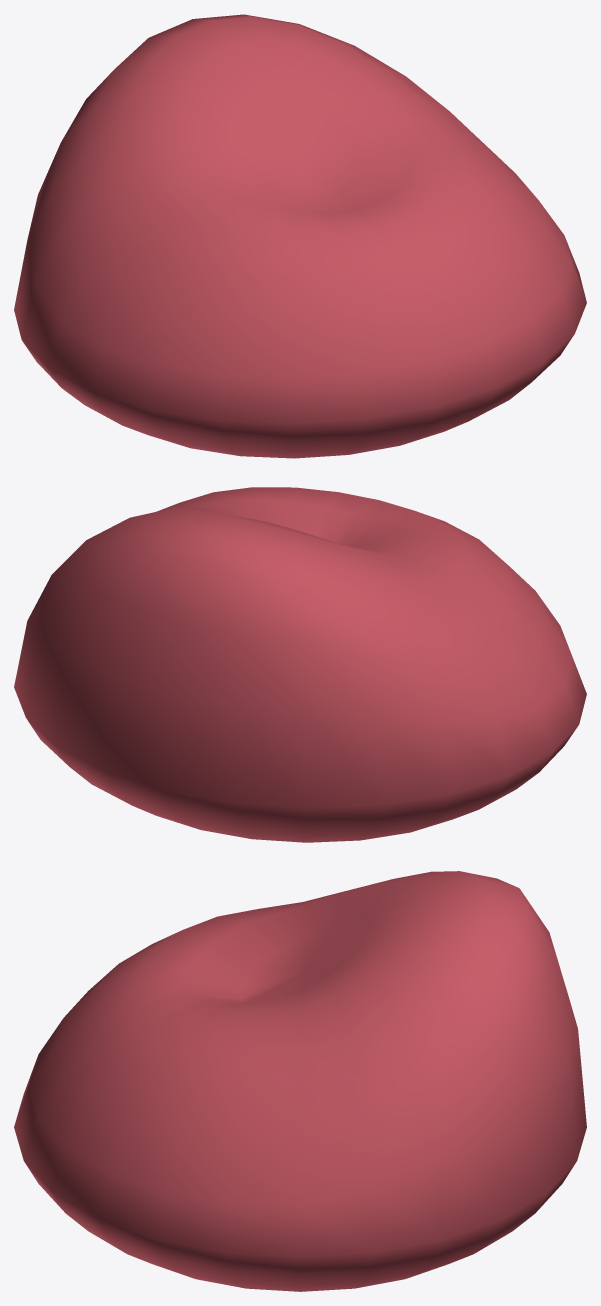
The model's file is bean_bag.fbx.
3 renders of one model, top to bottom at view 1: azimuth 30°, elevation 25°; view 2: azimuth 150°, elevation 25°; view 3: azimuth 270°, elevation 25°, orthographic. The views are drawn at different scales.
Parts seen in each view (by area): view 1: bean_bag_LOD0; view 2: bean_bag_LOD0; view 3: bean_bag_LOD0.
Part boxes in pixels (x1=…): bean_bag_LOD0: x1=14, y1=14, x2=586, y2=458; bean_bag_LOD0: x1=14, y1=487, x2=586, y2=842; bean_bag_LOD0: x1=14, y1=871, x2=586, y2=1291.
Size of what is drawn, in the model's own units: 1.34 by 0.8332 by 1.25.
